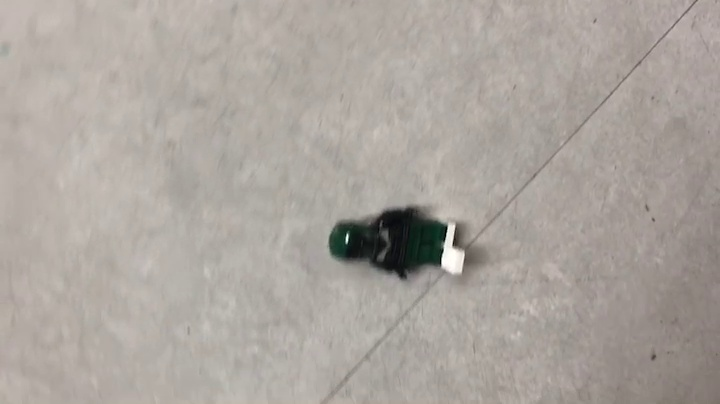people: (328, 206, 468, 283)
